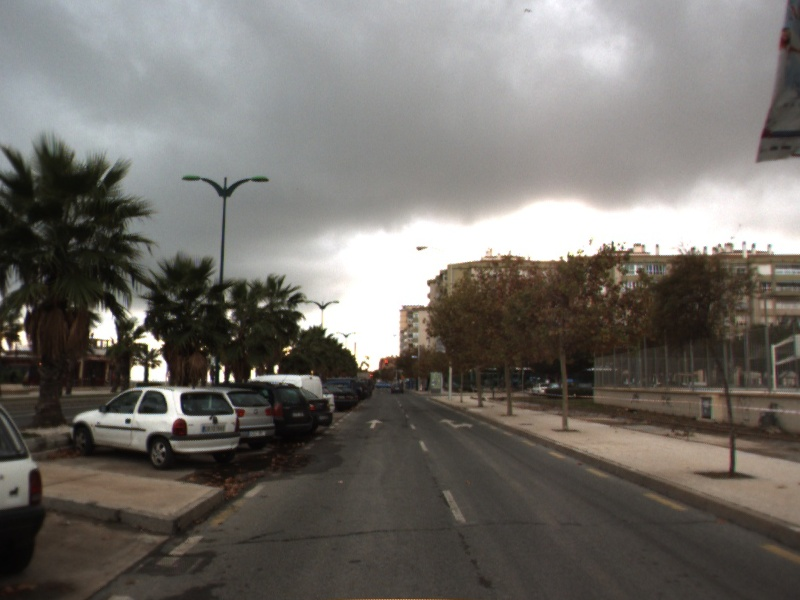STRAIGHT: (364, 418, 385, 430)
STRAIGHT_RIGHT: (437, 416, 476, 431)
